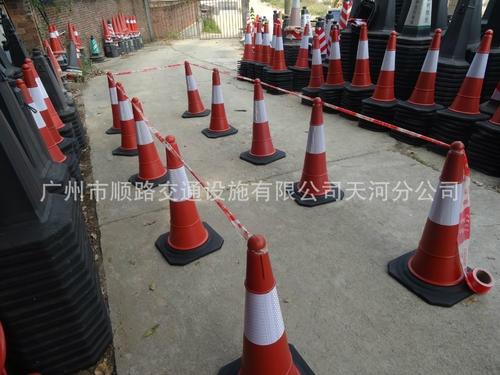cone_barrel: (396, 142, 486, 296), (228, 239, 303, 371), (154, 133, 215, 260), (289, 99, 339, 206), (445, 33, 494, 115), (240, 79, 282, 163), (407, 31, 444, 108), (130, 98, 165, 179), (368, 32, 399, 108), (203, 68, 234, 140), (348, 23, 372, 90), (179, 60, 206, 117), (115, 81, 136, 152), (305, 32, 325, 89), (324, 25, 343, 85), (292, 20, 309, 70), (269, 23, 286, 72), (253, 20, 263, 63), (243, 21, 253, 60)
